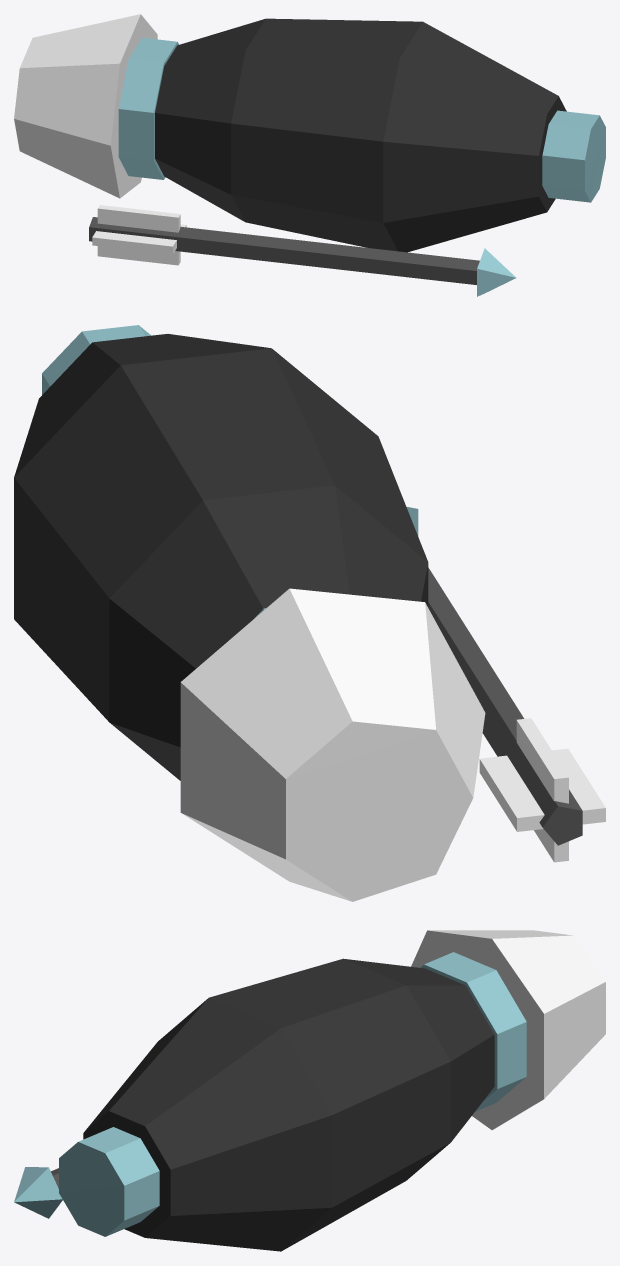
Rendered from ce_ammo2_great_plasteel_c.obj.
3 views of the same model, one above another, from view 1: azimuth 30°, elevation 25°; view 2: azimuth 150°, elevation 25°; view 3: azimuth 270°, elevation 25° (orthographic). The views are drawn at different scales.
Parts seen in each view (by area): view 1: ce_ammo2_great_plasteel_c_2, ce_ammo2_great_plasteel_c_1, ce_ammo2_great_plasteel_c_5, ce_ammo2_great_plasteel_c_3, ce_ammo2_great_plasteel_c_6, ce_ammo2_great_plasteel_c_4, ce_ammo2_great_plasteel_c_0, ce_ammo2_great_plasteel_c_9, ce_ammo2_great_plasteel_c_8, ce_ammo2_great_plasteel_c_7; view 2: ce_ammo2_great_plasteel_c_5, ce_ammo2_great_plasteel_c_2, ce_ammo2_great_plasteel_c_3, ce_ammo2_great_plasteel_c_6, ce_ammo2_great_plasteel_c_1, ce_ammo2_great_plasteel_c_8, ce_ammo2_great_plasteel_c_9, ce_ammo2_great_plasteel_c_0; view 3: ce_ammo2_great_plasteel_c_1, ce_ammo2_great_plasteel_c_2, ce_ammo2_great_plasteel_c_5, ce_ammo2_great_plasteel_c_0, ce_ammo2_great_plasteel_c_3, ce_ammo2_great_plasteel_c_4, ce_ammo2_great_plasteel_c_7.
Part boxes in pixels (left/top/right/bottom): ce_ammo2_great_plasteel_c_2: left=231, top=18, right=422, bottom=251; ce_ammo2_great_plasteel_c_1: left=383, top=22, right=566, bottom=252; ce_ammo2_great_plasteel_c_5: left=14, top=14, right=157, bottom=198; ce_ammo2_great_plasteel_c_3: left=155, top=19, right=265, bottom=221; ce_ammo2_great_plasteel_c_6: left=89, top=217, right=479, bottom=284; ce_ammo2_great_plasteel_c_4: left=118, top=37, right=178, bottom=179; ce_ammo2_great_plasteel_c_0: left=542, top=110, right=605, bottom=202; ce_ammo2_great_plasteel_c_9: left=97, top=205, right=180, bottom=265; ce_ammo2_great_plasteel_c_8: left=92, top=224, right=186, bottom=254; ce_ammo2_great_plasteel_c_7: left=477, top=248, right=516, bottom=296; ce_ammo2_great_plasteel_c_5: left=180, top=588, right=485, bottom=901; ce_ammo2_great_plasteel_c_2: left=14, top=348, right=427, bottom=721; ce_ammo2_great_plasteel_c_3: left=109, top=485, right=428, bottom=780; ce_ammo2_great_plasteel_c_6: left=428, top=567, right=582, bottom=845; ce_ammo2_great_plasteel_c_1: left=14, top=334, right=270, bottom=476; ce_ammo2_great_plasteel_c_8: left=479, top=748, right=605, bottom=831; ce_ammo2_great_plasteel_c_9: left=516, top=718, right=568, bottom=862; ce_ammo2_great_plasteel_c_0: left=42, top=325, right=150, bottom=394; ce_ammo2_great_plasteel_c_1: left=83, top=998, right=332, bottom=1251; ce_ammo2_great_plasteel_c_2: left=209, top=959, right=450, bottom=1250; ce_ammo2_great_plasteel_c_5: left=411, top=930, right=605, bottom=1129; ce_ammo2_great_plasteel_c_0: left=59, top=1127, right=159, bottom=1236; ce_ammo2_great_plasteel_c_3: left=343, top=958, right=494, bottom=1141; ce_ammo2_great_plasteel_c_4: left=420, top=952, right=526, bottom=1111; ce_ammo2_great_plasteel_c_7: left=14, top=1167, right=62, bottom=1218.
Size of the model in its own units: 0.6615 by 0.2956 by 0.7098.
